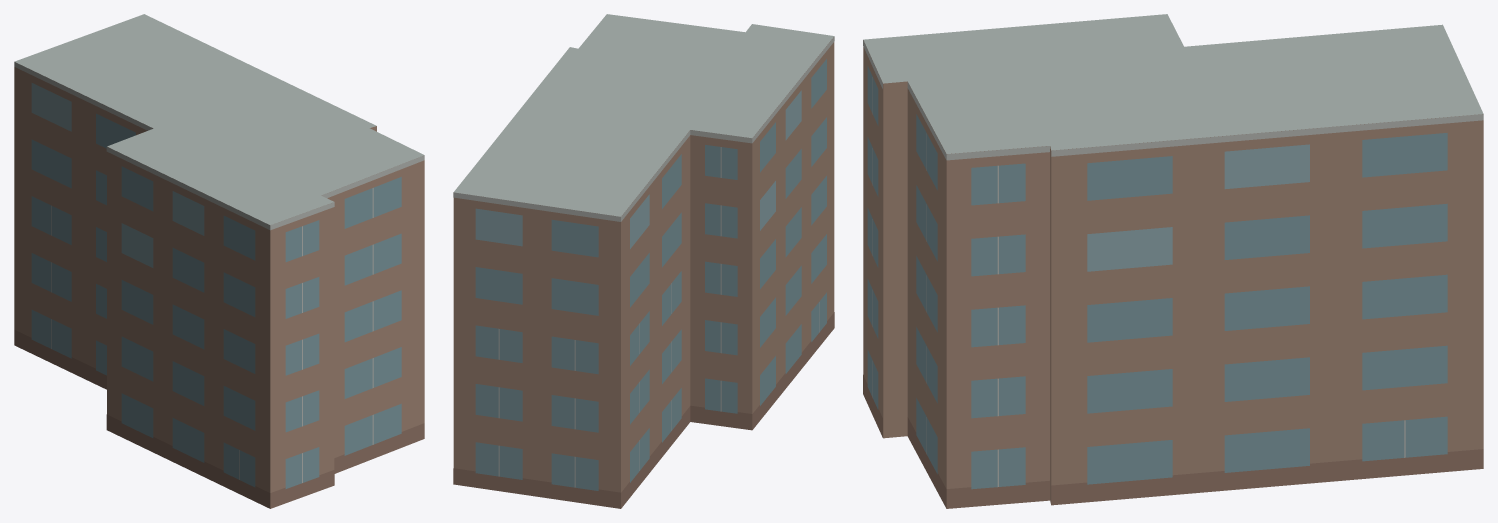
File: survey-upis-33022307.glb
The picture shows the model from 3 angles, left to right: view 1: azimuth 30°, elevation 25°; view 2: azimuth 150°, elevation 25°; view 3: azimuth 270°, elevation 25°; orthographic projection. The views are drawn at different scales.
Visible parts, largest first — view 1: survey-upis-33022307.tmp; view 2: survey-upis-33022307.tmp; view 3: survey-upis-33022307.tmp.
Part boxes in pixels (<box>): survey-upis-33022307.tmp: <box>14,14,424,508</box>; survey-upis-33022307.tmp: <box>453,14,834,508</box>; survey-upis-33022307.tmp: <box>863,14,1483,508</box>.
Size of the model in its own units: 11.62 by 13.7 by 21.73.
